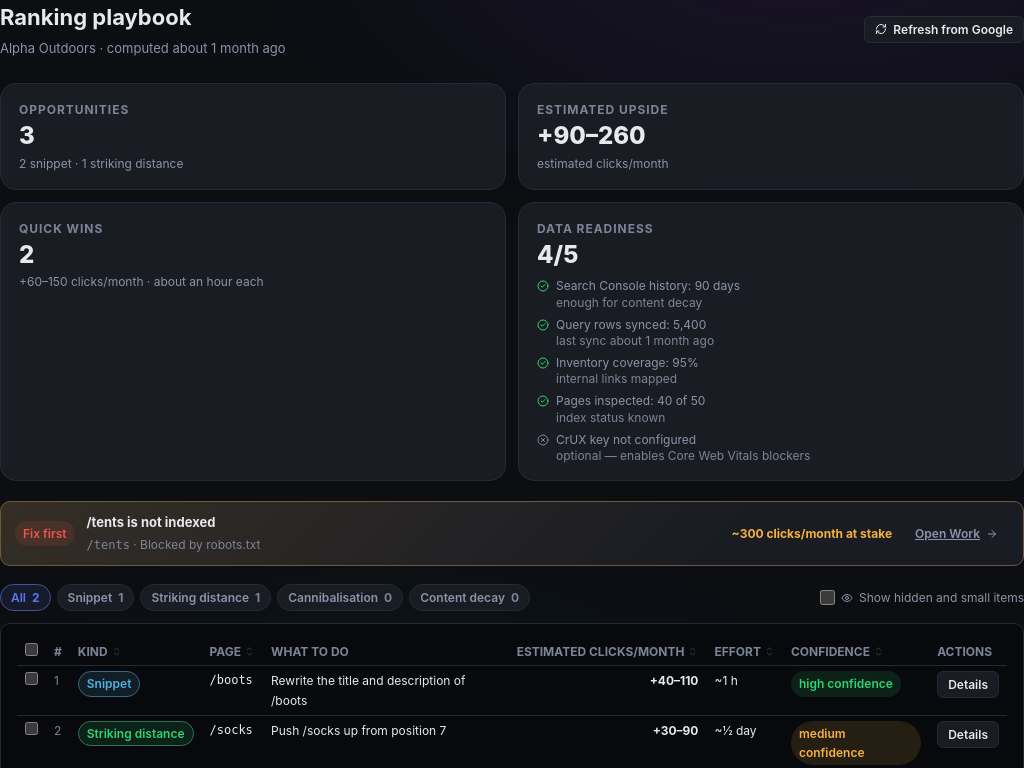
opens details with steps and a copy button, and dismisses the item
Expected: the text "Rewrite the title and description of /boots" is shown, [263,666,509,715]
Click the button "Details" in the row of "+40–110" at (968,685), box [937,671,999,698]
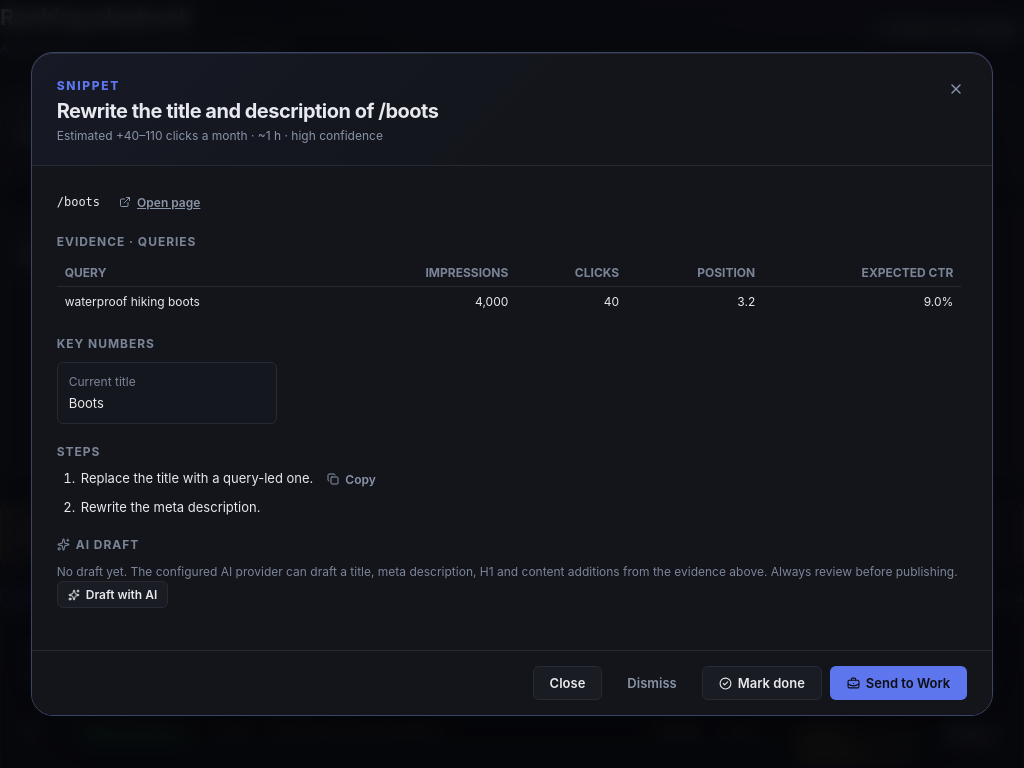
Expected: the dialog shows "Replace the title with a query-led one.", [81,470,313,486]
Expected: the dialog shows "Estimated +40–110 clicks a month · ~1 h · high confidence", [57,128,383,143]
Expected: the button with aria-label "Copy:" is shown, [319,469,384,490]
Click the button "Dismiss" at (652,683), box [610,666,694,700]
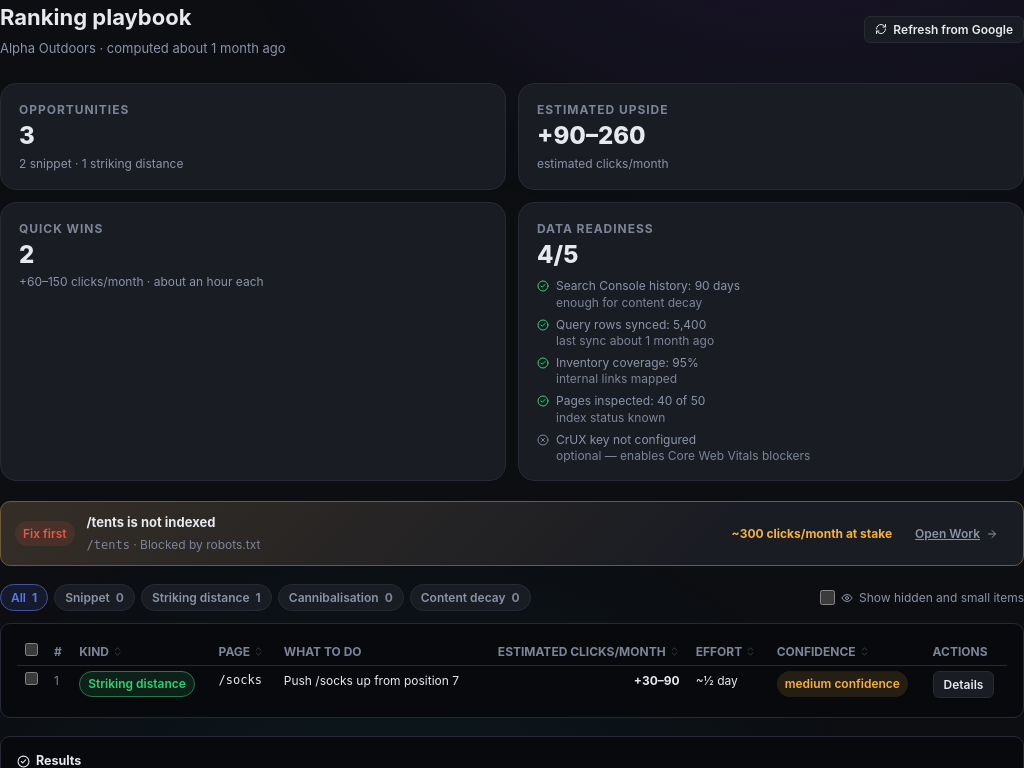
Expected: the dialog is gone
